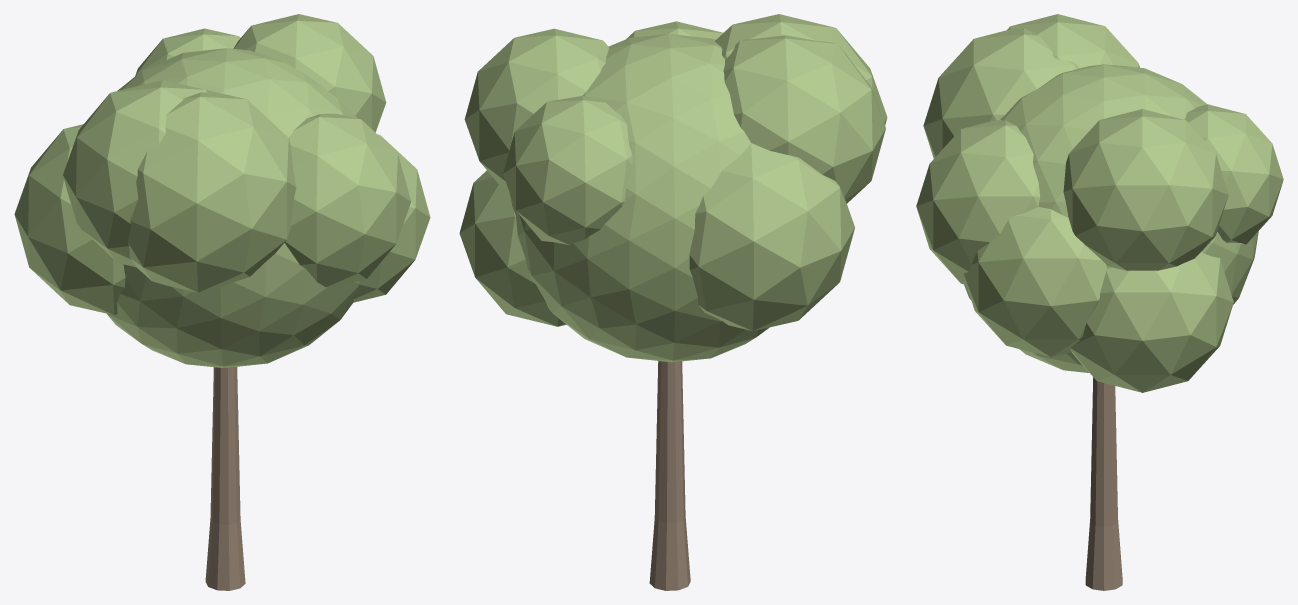
File: tree_b.glb
The picture shows the model from 3 angles, left to right: view 1: azimuth 30°, elevation 25°; view 2: azimuth 150°, elevation 25°; view 3: azimuth 270°, elevation 25°; orthographic projection. The views are drawn at different scales.
Visible parts, largest first — view 1: tree_b_leaf2, tree_b_bark; view 2: tree_b_leaf2, tree_b_bark; view 3: tree_b_leaf2, tree_b_bark.
Part boxes in pixels (x1,y1,x2,y2): tree_b_leaf2: [14, 14, 430, 367]; tree_b_bark: [205, 367, 245, 590]; tree_b_leaf2: [459, 14, 887, 362]; tree_b_bark: [649, 361, 690, 590]; tree_b_leaf2: [916, 14, 1283, 392]; tree_b_bark: [1085, 377, 1122, 590].
Size of the model in its own units: 4.07 by 5.85 by 3.76.
